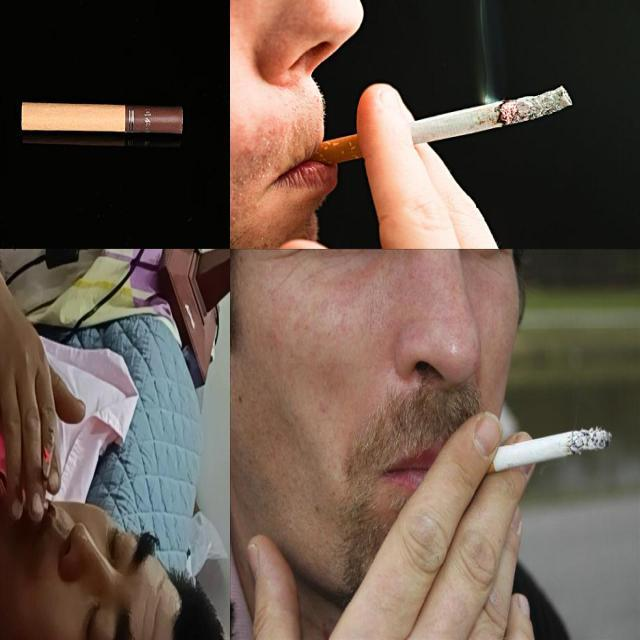smoking: (309, 84, 575, 168), (457, 420, 615, 476), (20, 101, 185, 137), (38, 426, 56, 516)
